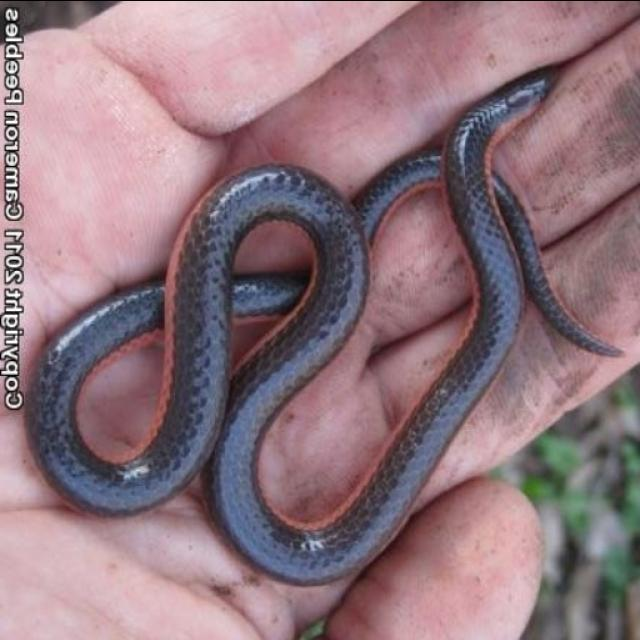snake: (40, 86, 590, 584)
